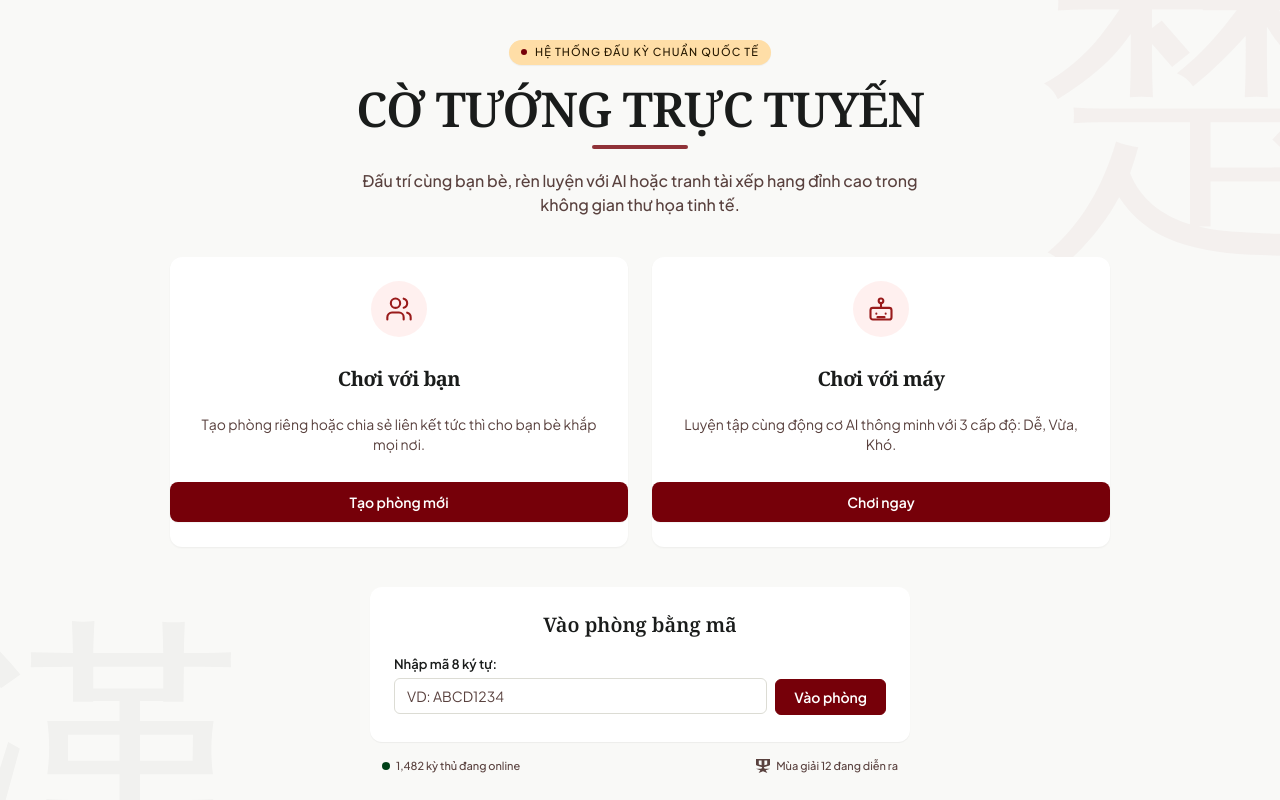
Test: HomePage › shows error when submitting empty room code
Click the button "Vào phòng": (831, 696) top-left (775, 678), bottom-right (886, 714)
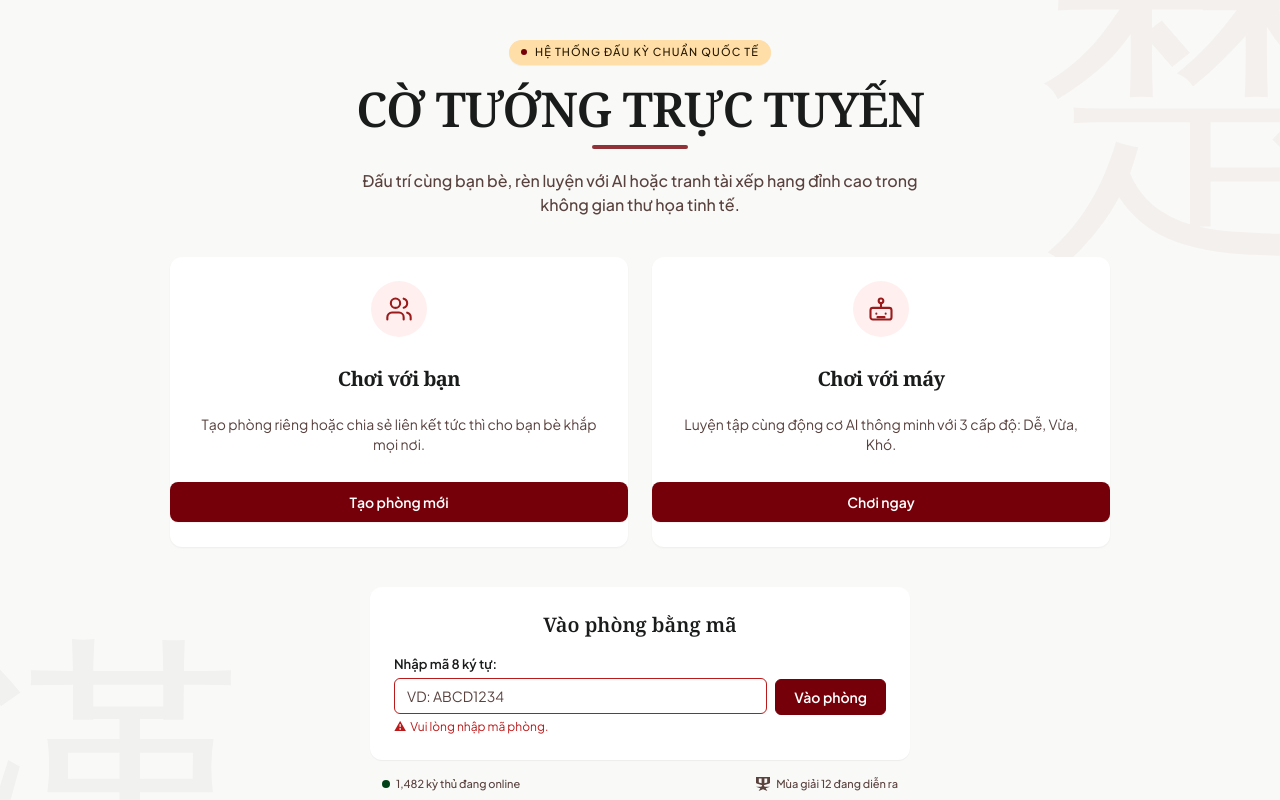
Expected: the text "Vui lòng nhập mã phòng." is shown, top-left (410, 719), bottom-right (548, 734)
